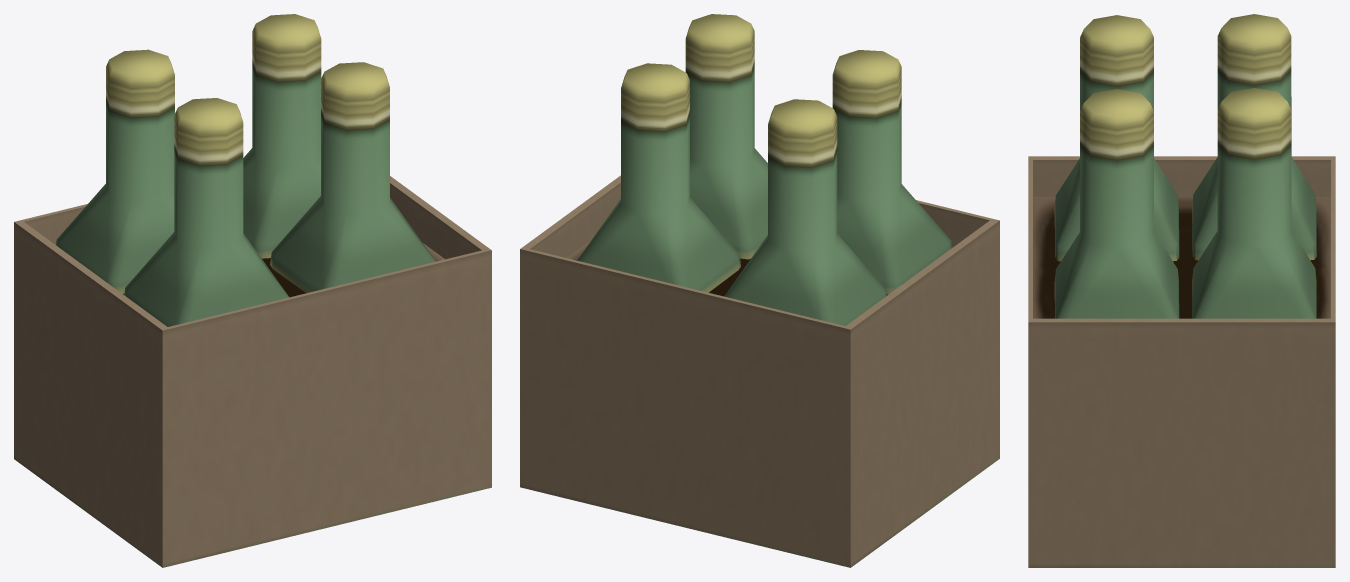
The model's file is BoxofOilOlive_ground.fbx.
3 views of the same model, side by side, from view 1: azimuth 30°, elevation 25°; view 2: azimuth 150°, elevation 25°; view 3: azimuth 270°, elevation 25° (orthographic). The views are drawn at different scales.
Parts seen in each view (by area): view 1: OilOlive; view 2: OilOlive; view 3: OilOlive.
Part boxes in pixels (box(x1,y1,x2,y2)): OilOlive: box(14, 14, 491, 567); OilOlive: box(520, 14, 999, 567); OilOlive: box(1028, 14, 1335, 567).
Bounding box in the file's own units: 3.2 × 3.75 × 2.5.
